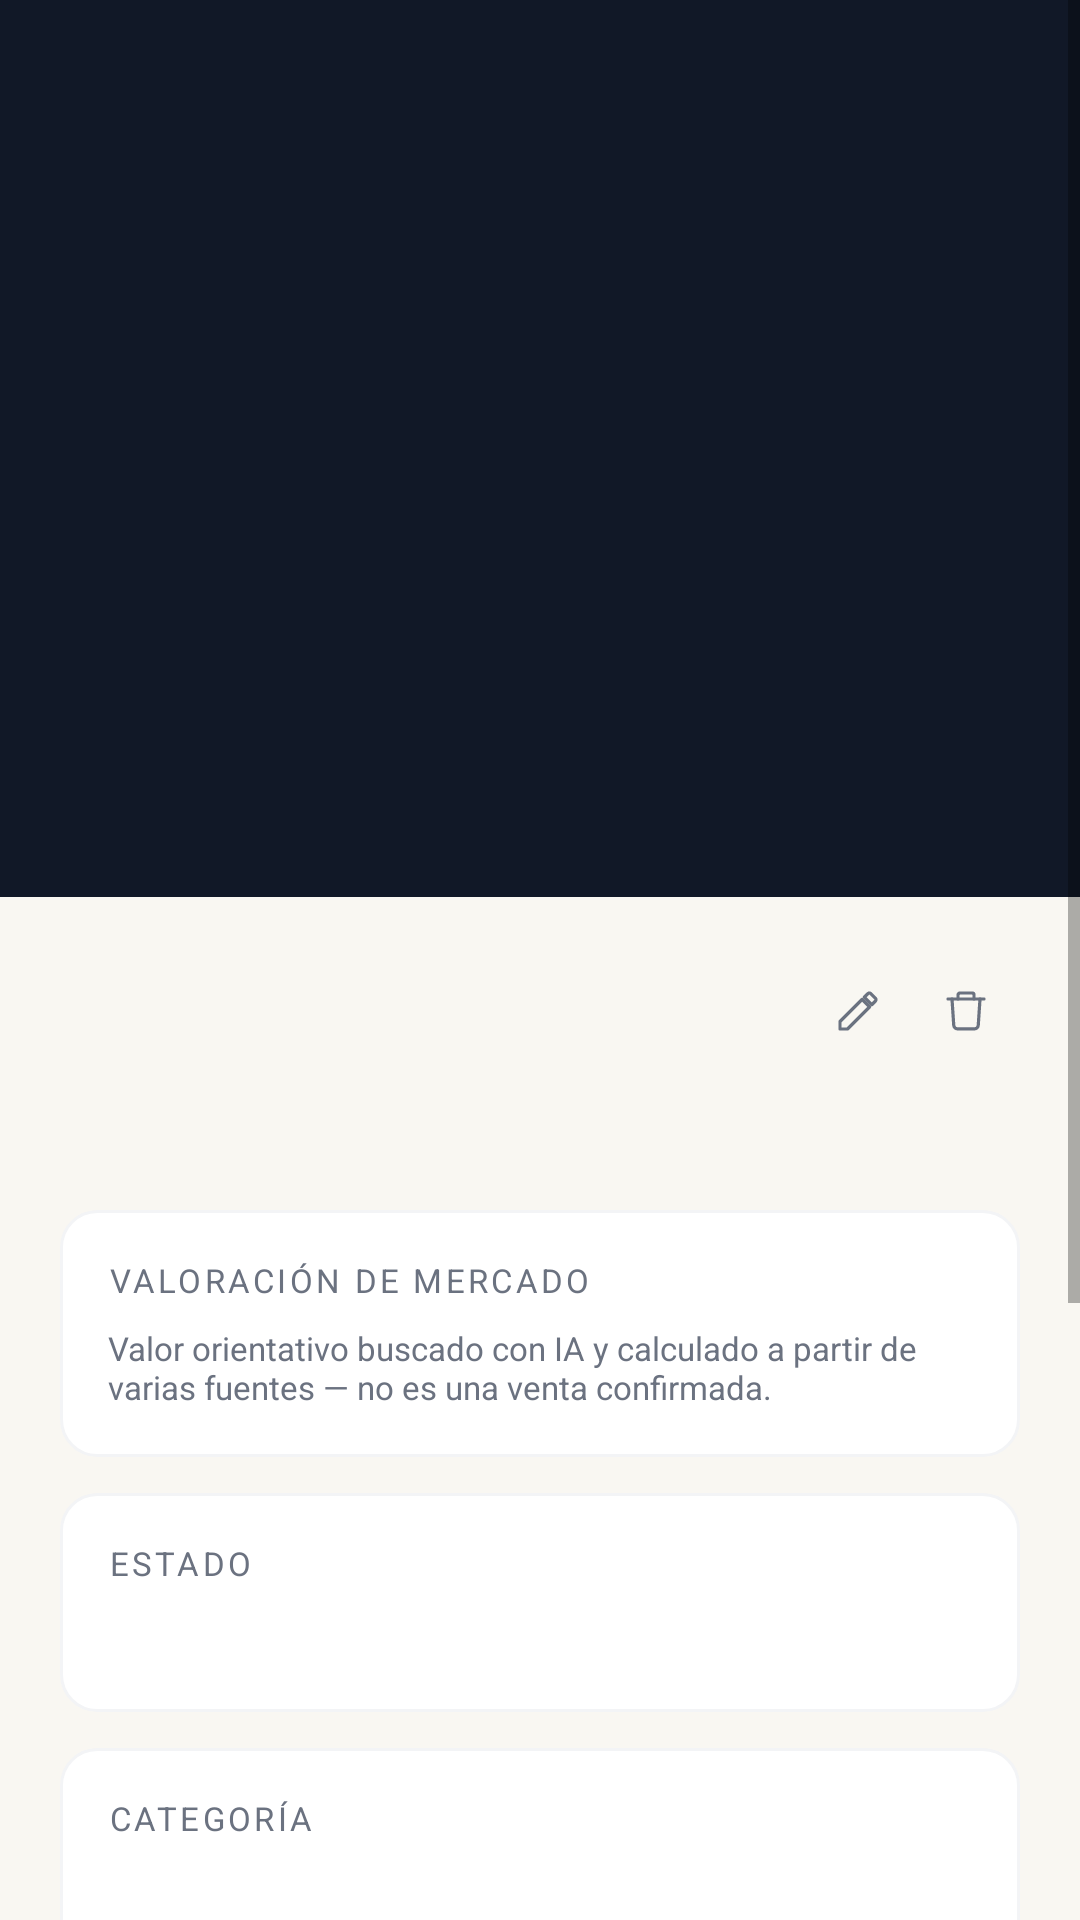

Named icons in this screenshot (1080px×1920px) and their centers, (x=x, y=y):
Editar objeto: (x=858, y=1011)
Eliminar objeto: (x=966, y=1011)
